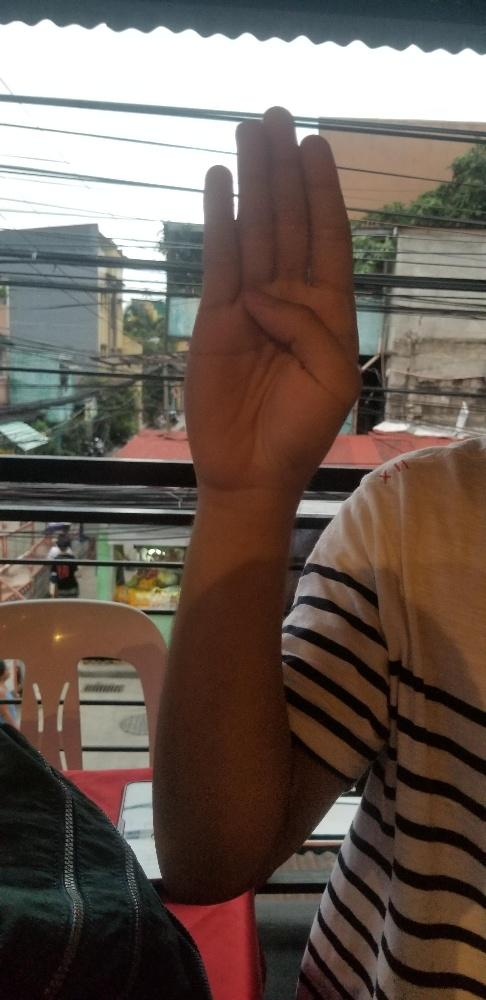b: (183, 104, 361, 484)
